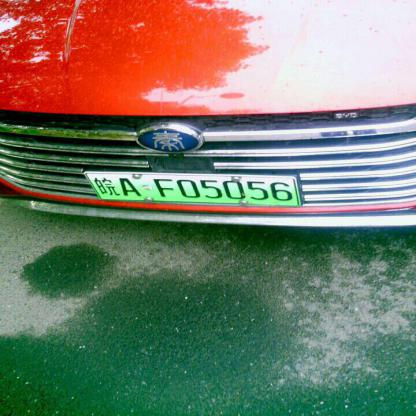lp: (86, 171, 300, 204)
